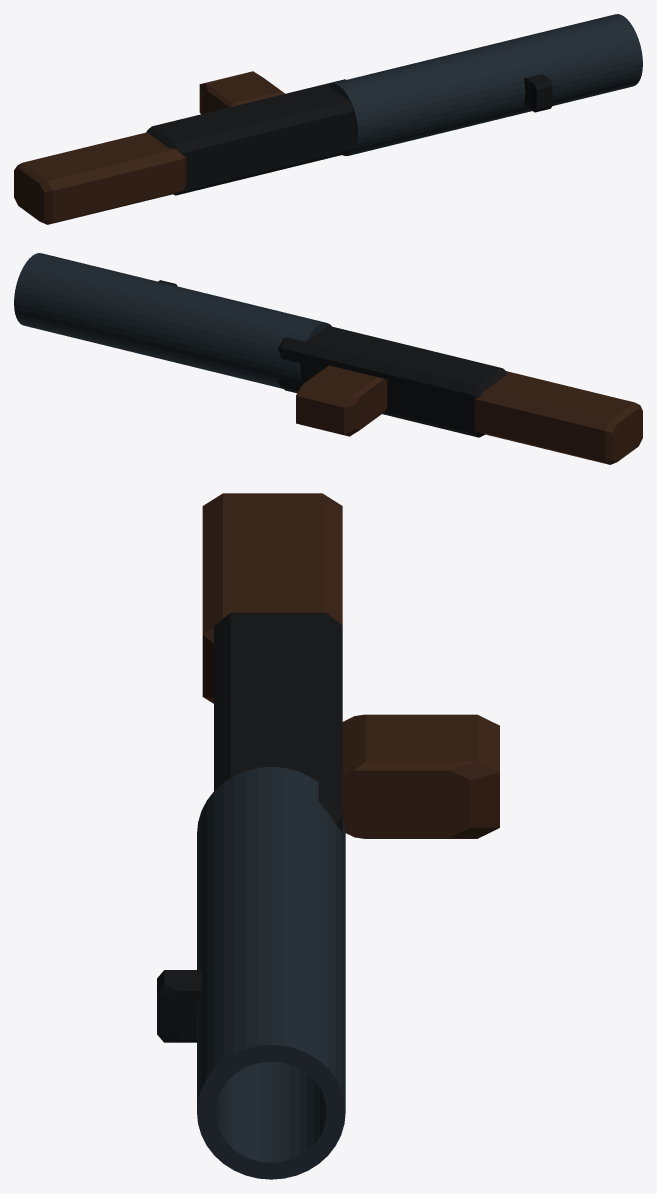
File: grenade_launcher_1995_lod0.obj
3 views of the same model, one above another, from view 1: azimuth 30°, elevation 25°; view 2: azimuth 150°, elevation 25°; view 3: azimuth 270°, elevation 25° (orthographic). The views are drawn at different scales.
Visible parts, largest first — view 1: large_bore, receiver, stock, trigger_grip, iron_sights; view 2: large_bore, receiver, stock, trigger_grip; view 3: large_bore, receiver, trigger_grip, stock, iron_sights.
Boxes of the visible parts, bbox=[...] form: large_bore: bbox=[328, 14, 642, 155]; receiver: bbox=[146, 79, 353, 195]; stock: bbox=[14, 132, 186, 224]; trigger_grip: bbox=[199, 71, 284, 114]; iron_sights: bbox=[524, 74, 552, 112]; large_bore: bbox=[14, 253, 331, 388]; receiver: bbox=[278, 325, 506, 437]; stock: bbox=[474, 371, 642, 464]; trigger_grip: bbox=[296, 365, 387, 436]; large_bore: bbox=[197, 766, 345, 1179]; receiver: bbox=[214, 612, 342, 834]; trigger_grip: bbox=[342, 714, 499, 838]; stock: bbox=[202, 493, 342, 703]; iron_sights: bbox=[157, 970, 202, 1042].
Bounding box in the file's own units: 96 × 10.4 × 24.
